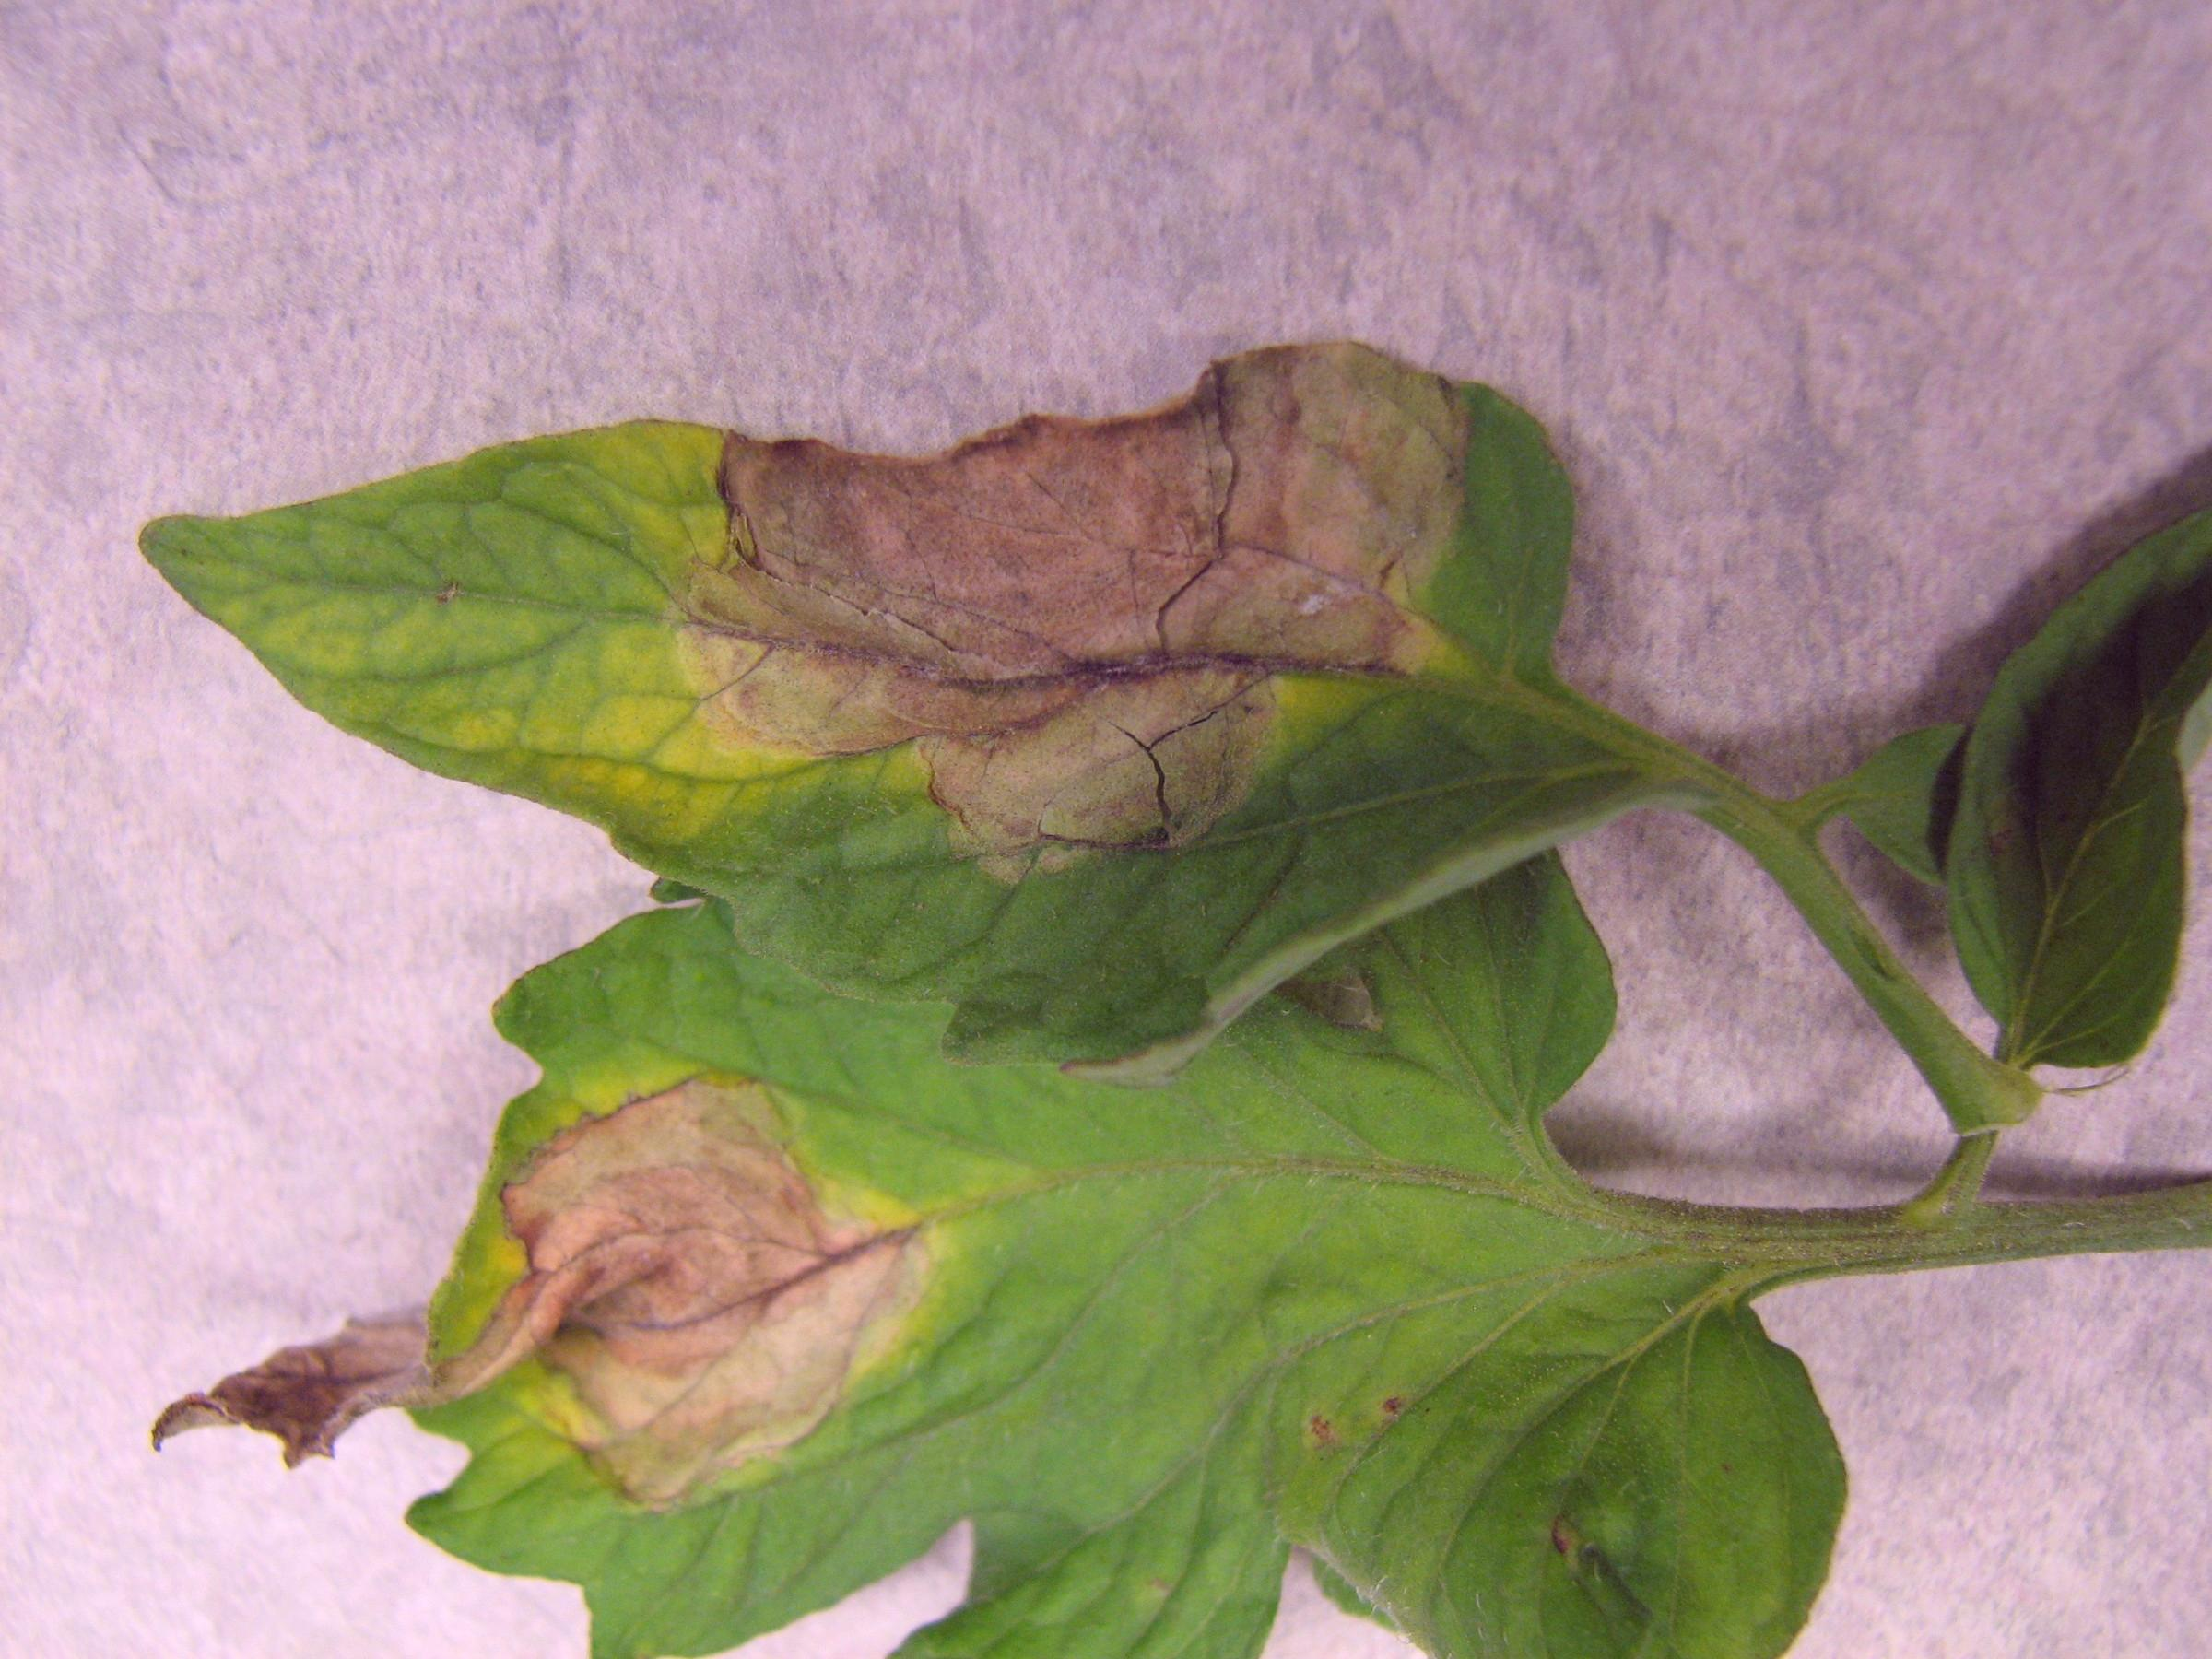Tomato leaf late blight: (134, 955, 1895, 1652), (118, 291, 1679, 1065)
